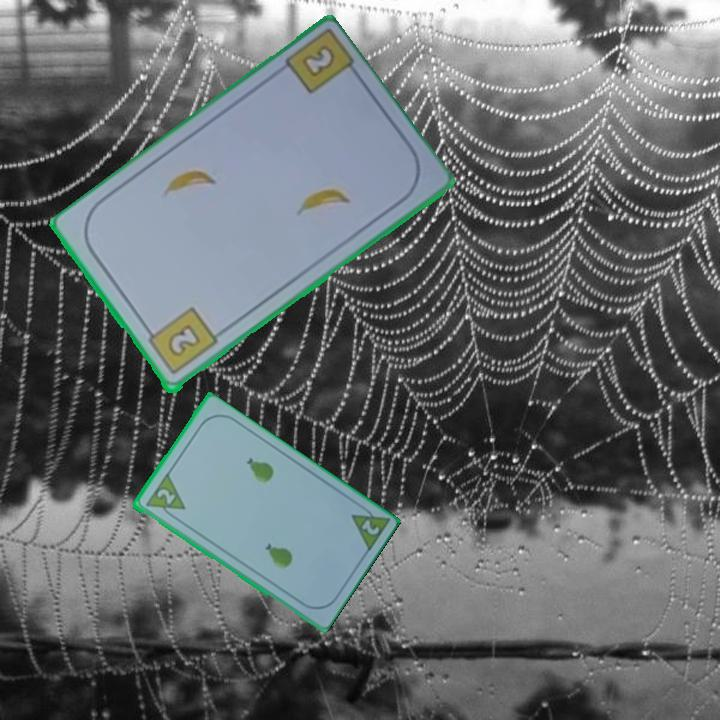2b: (141, 304, 220, 378), (301, 44, 335, 78)
2p: (347, 500, 391, 556), (141, 471, 188, 523)
